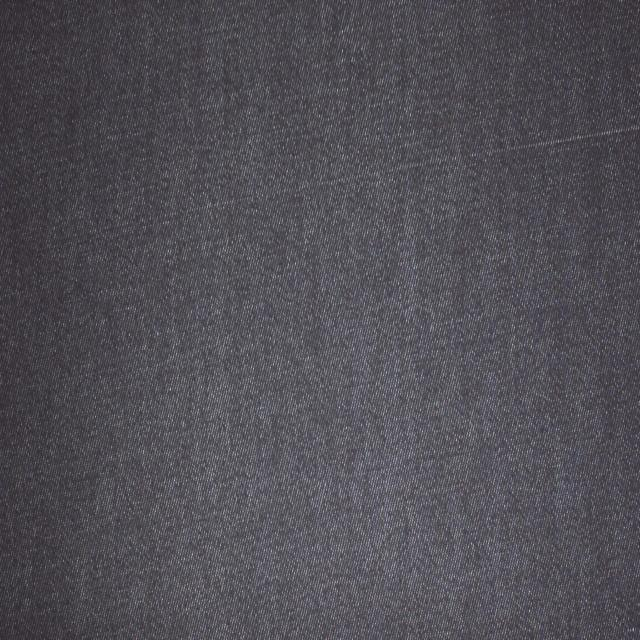pulled_or_thick_thread: (4, 120, 640, 268)
